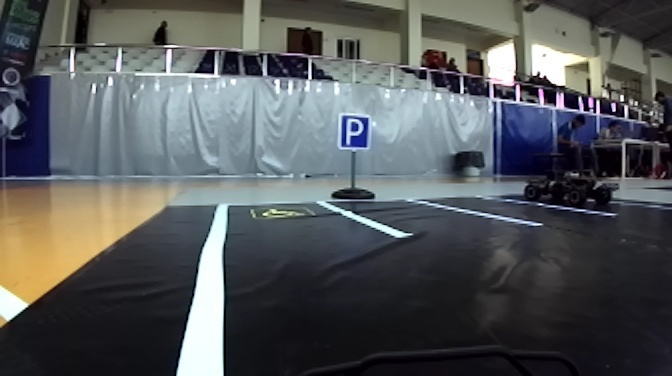park: (338, 113, 372, 152)
